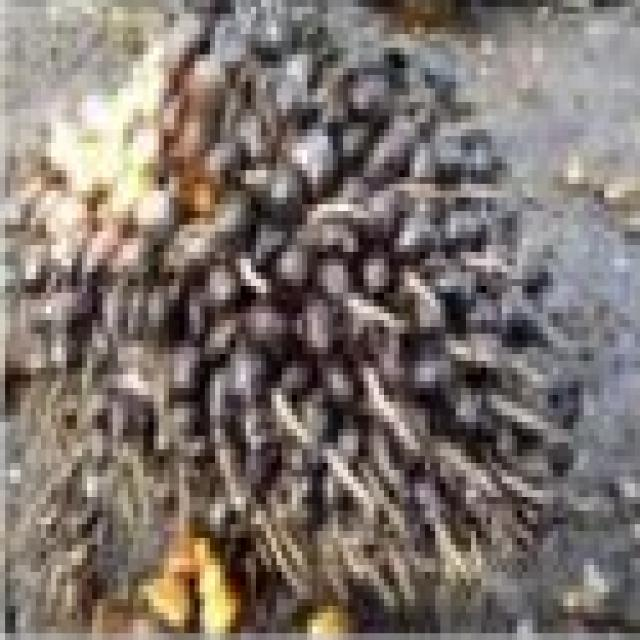FFB: (44, 19, 583, 621)
